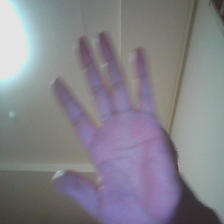hand: (46, 28, 182, 223)
